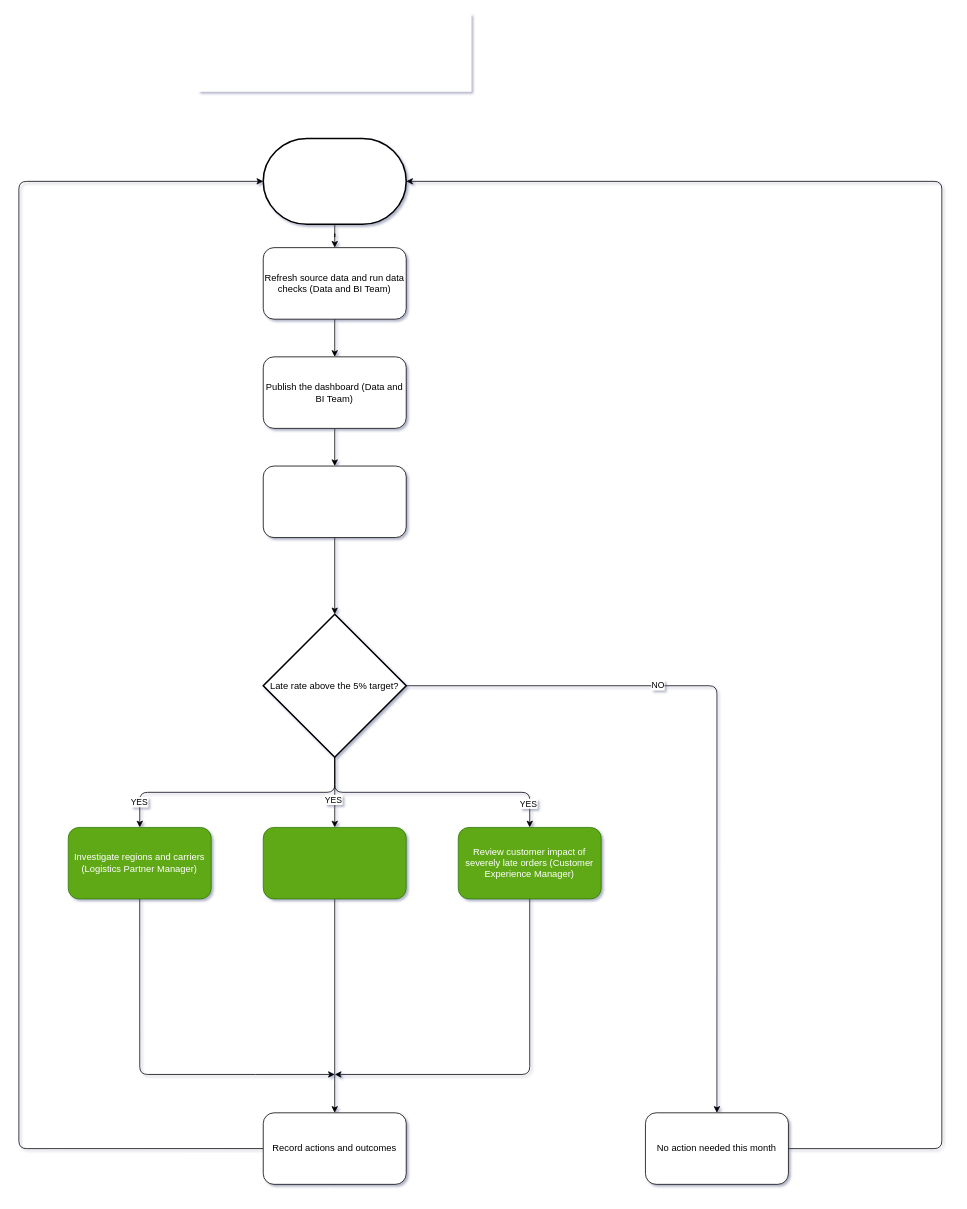
This 967x1209 diagram has some shape labels left out. The centre of each missing label's shape, as x and y in pixels:
"Follow up with sellers above the late-rate threshold (Seller Management Lead)" goes at (334,863).
"Review monthly delivery performance (Head of Operations)" goes at (334,501).
"Start: month ends" goes at (334,181).
"TO-BE process: monthly delivery review loop" goes at (334,52).
